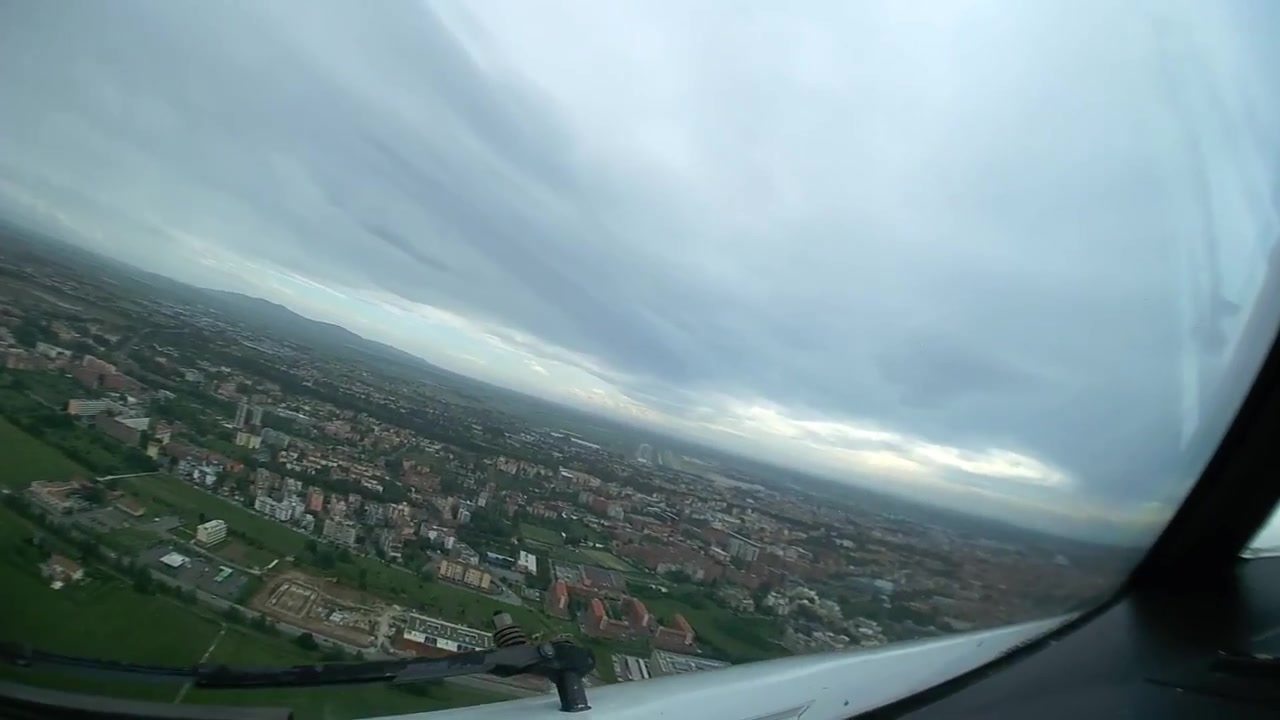runway: (635, 442, 651, 464)
